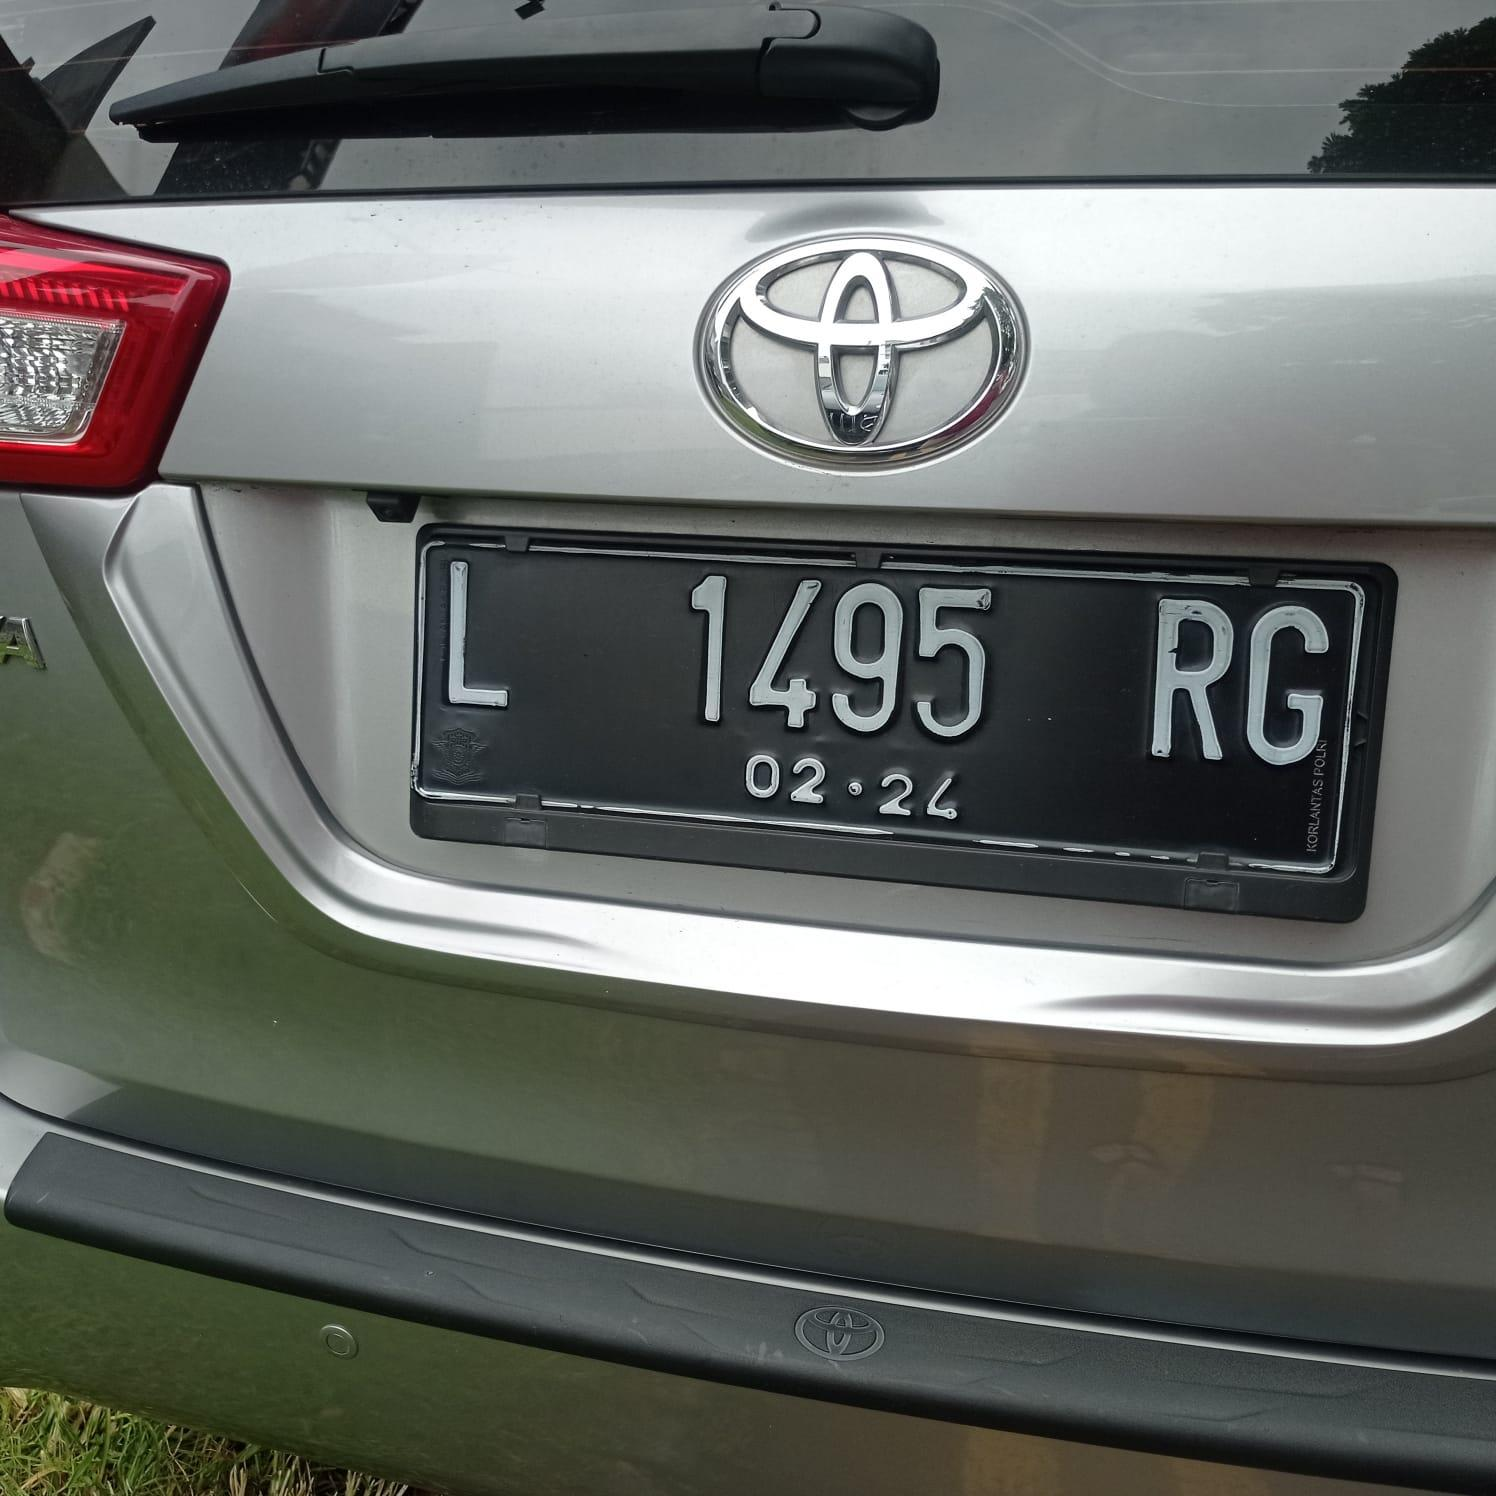plat: (412, 529, 1393, 921)
